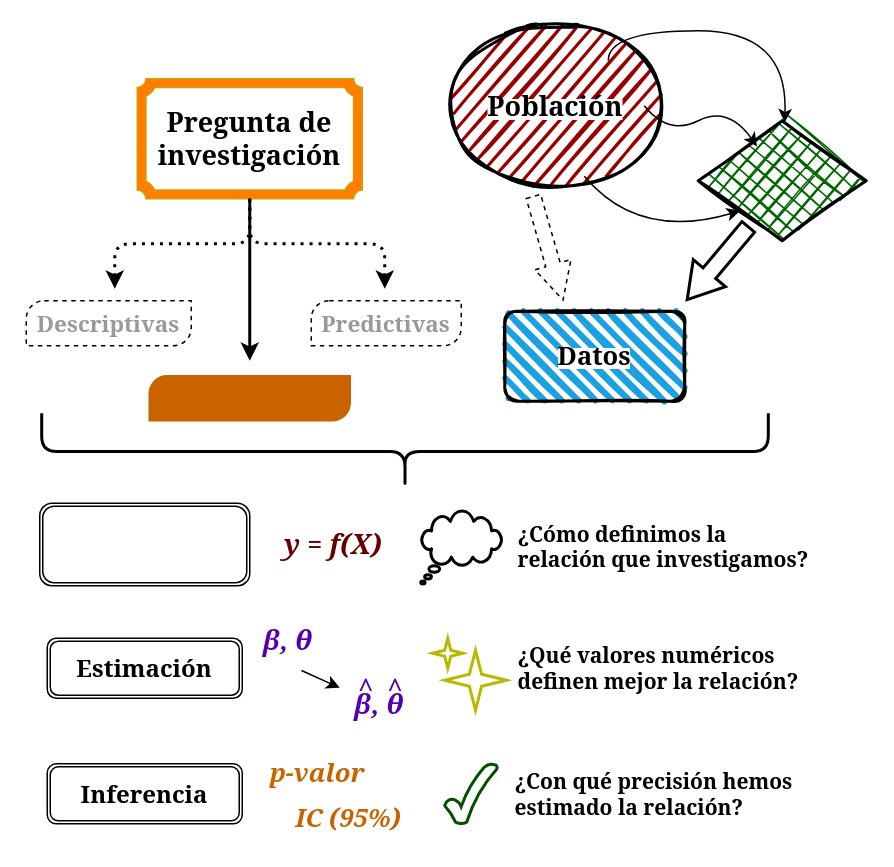
Image size: 894x867. Some labels were removed from this diagram. The shapes that lost their labels are listed below. From the top down, each one's centre as x and y in pixels, then its label:
At [781,180]: "Muestra".
At [249,397]: "Contrafactuales".
At [144,544]: "Especificar el modelo".
